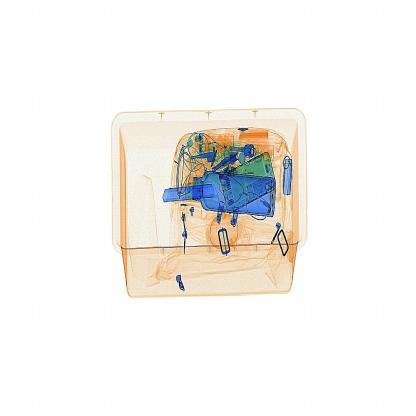pliers: (150, 176, 222, 217)
